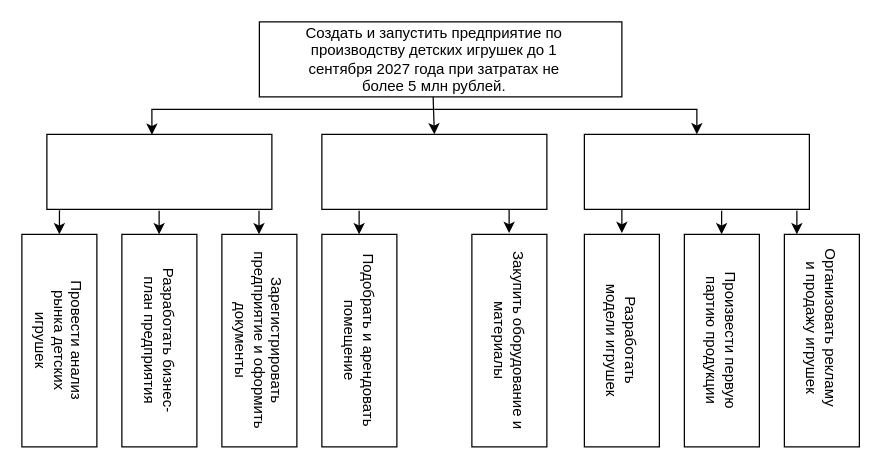
Image size: 881x469. Some labels were removed from this diagram. Each missing label, with the centre of its shape:
Обеспечить выпуск и продажу продукции: the point at 696,171
Организовать производственный процесс: the point at 434,171
Организовать создание предприятия: the point at 159,171
